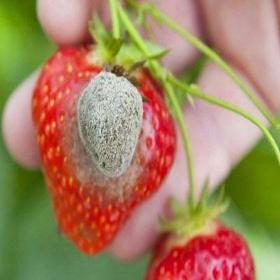Gray Mold: (59, 62, 157, 204)
